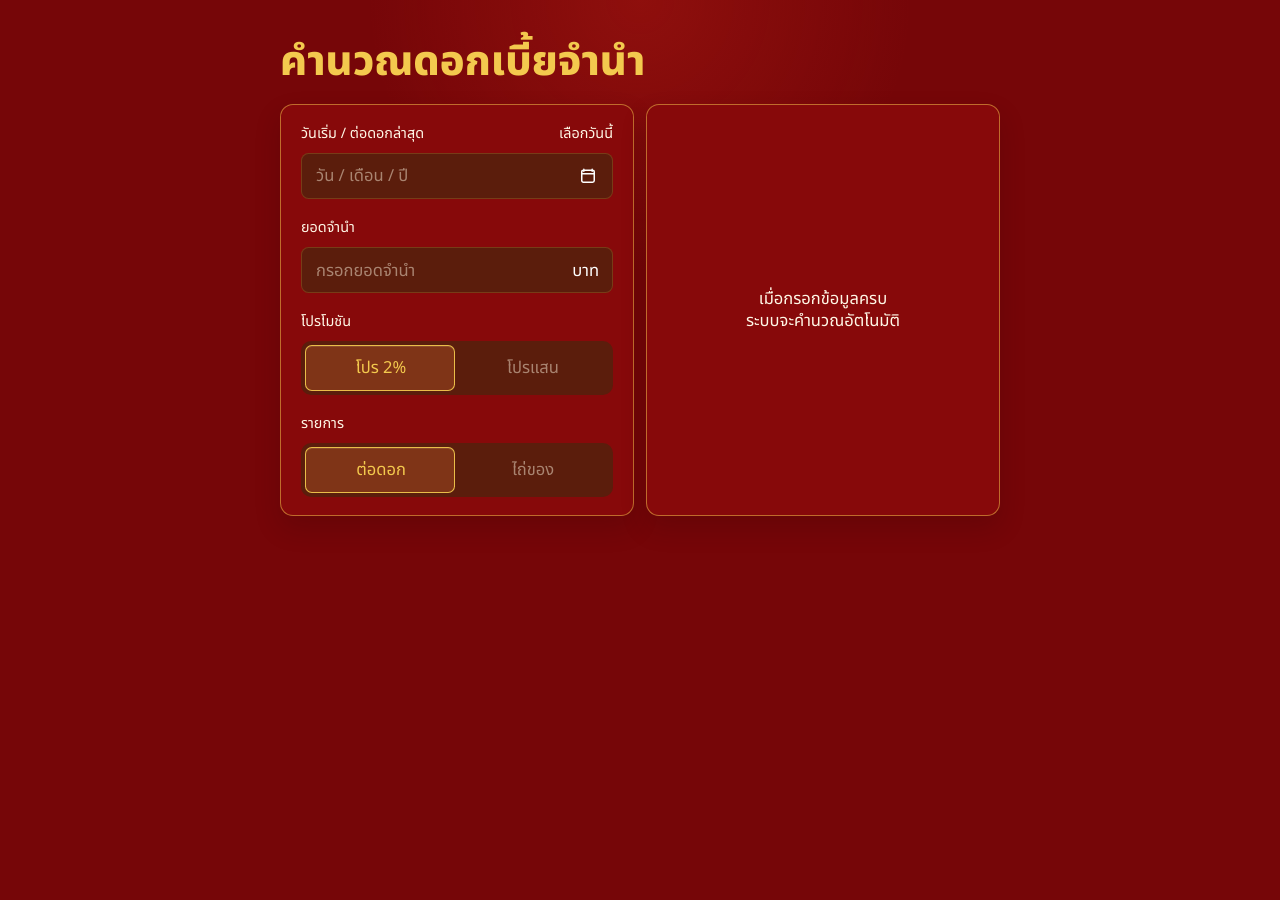
ManualCalculator › lists date-picker years from oldest to newest
Click the button with aria-label "วันเริ่ม / ต่อดอกล่าสุด".
click(362, 176)  # box [301,153,613,199]
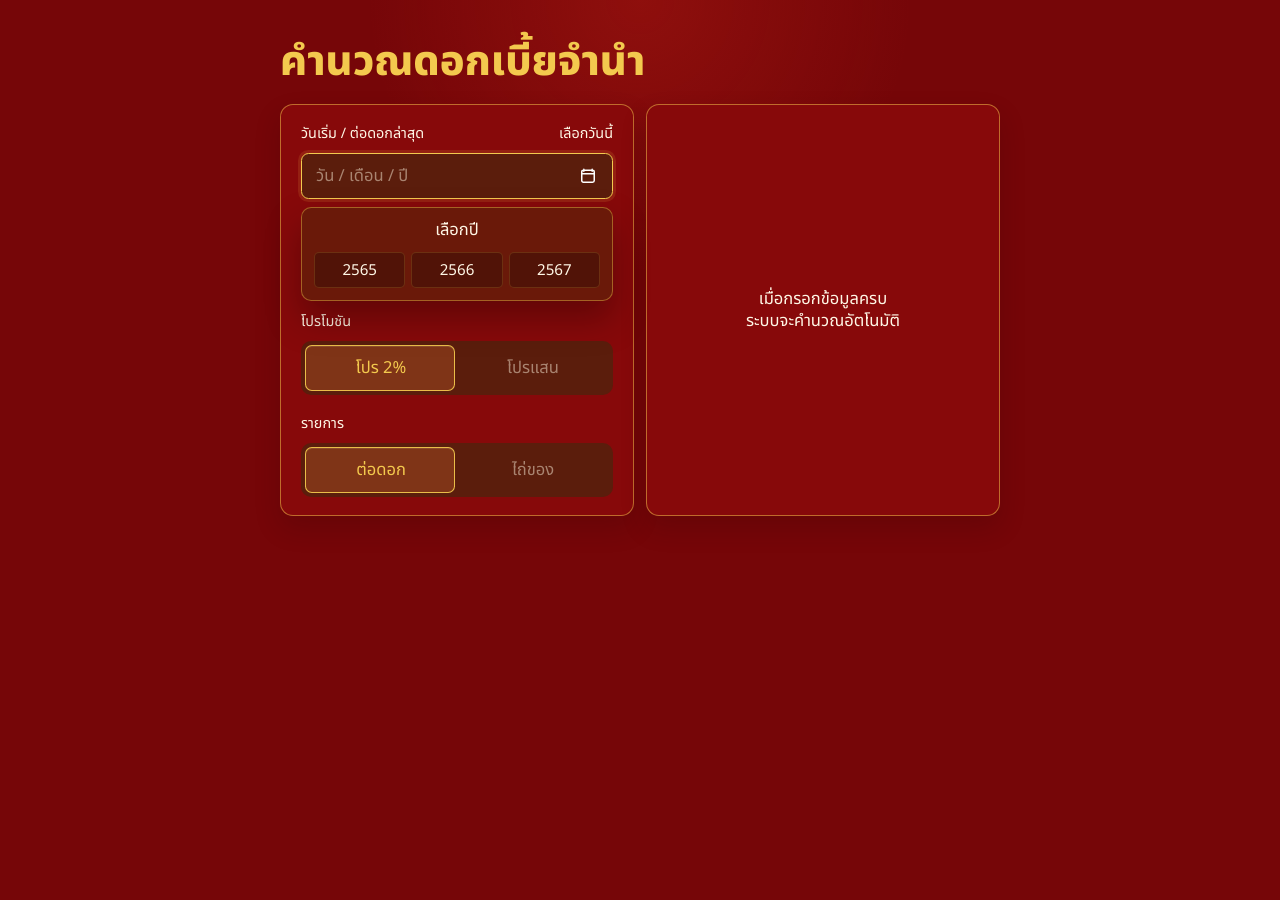
Now the buttons read "2565", "2566", "2567", in this order, box [314,252,405,288]; [411,252,503,288]; [509,252,600,288]
